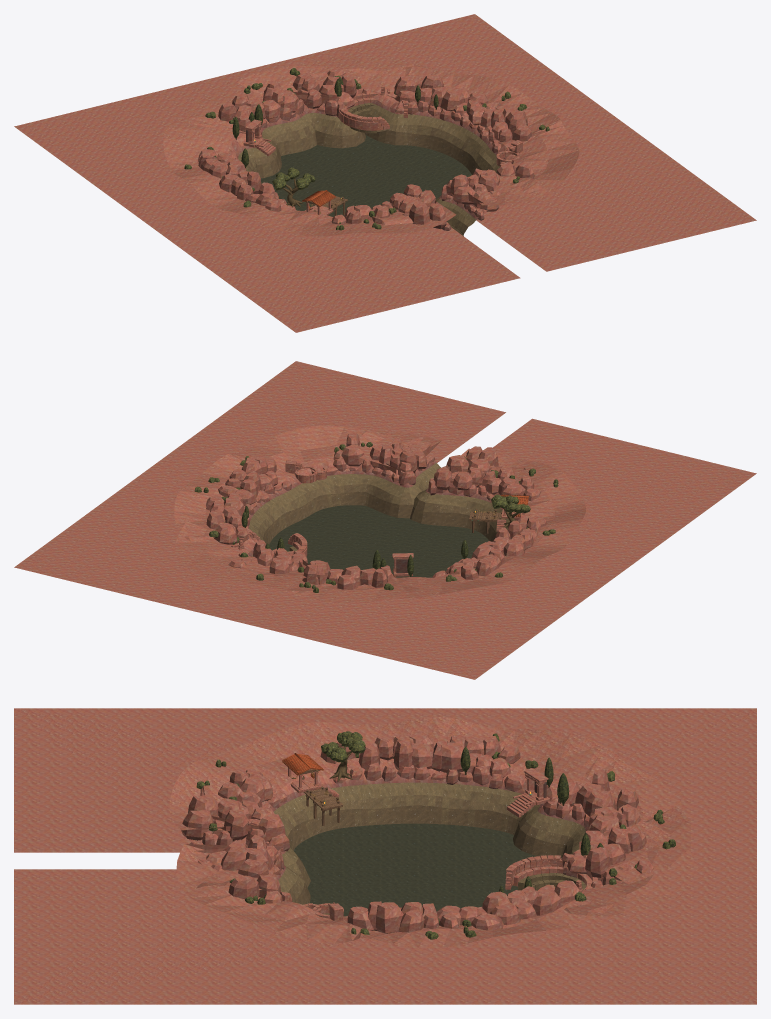
File: moon-cistern.glb
3 views of the same model, one above another, from view 1: azimuth 30°, elevation 25°; view 2: azimuth 150°, elevation 25°; view 3: azimuth 270°, elevation 25° (orthographic). The views are drawn at different scales.
Visible parts, largest first — view 1: South_Limestone, North_Limestone, West_Limestone, East_Limestone, East_Seabed, North_Seabed, West_Seabed, Landmark_Moon_Cistern_Limestone, North_Foliage, West_Foliage, South_Seabed; view 2: South_Limestone, North_Limestone, West_Limestone, East_Limestone, East_Seabed, South_Seabed, West_Seabed, North_Foliage, West_Foliage; view 3: South_Limestone, North_Limestone, East_Limestone, West_Limestone, West_Seabed, East_Seabed, South_Seabed, North_Seabed, North_Foliage, Landmark_Moon_Cistern_Limestone, West_Foliage, Landmark_Moon_Cistern_Seabed (+1 smaller).
Boxes of the visible parts, bbox=[...] form: South_Limestone: bbox=[238, 138, 756, 332]; North_Limestone: bbox=[14, 14, 501, 167]; West_Limestone: bbox=[14, 126, 316, 332]; East_Limestone: bbox=[432, 14, 756, 220]; East_Seabed: bbox=[270, 118, 499, 215]; North_Seabed: bbox=[238, 103, 436, 183]; West_Seabed: bbox=[246, 148, 460, 216]; Landmark_Moon_Cistern_Limestone: bbox=[339, 92, 408, 130]; North_Foliage: bbox=[205, 68, 438, 157]; West_Foliage: bbox=[184, 148, 315, 207]; South_Seabed: bbox=[436, 197, 476, 236]; South_Limestone: bbox=[247, 361, 756, 533]; North_Limestone: bbox=[14, 495, 509, 679]; West_Limestone: bbox=[446, 473, 756, 679]; East_Limestone: bbox=[14, 361, 317, 567]; East_Seabed: bbox=[249, 481, 479, 577]; South_Seabed: bbox=[316, 463, 509, 542]; West_Seabed: bbox=[284, 510, 507, 577]; North_Foliage: bbox=[209, 505, 457, 592]; West_Foliage: bbox=[461, 494, 555, 577]; South_Limestone: bbox=[14, 708, 372, 1004]; North_Limestone: bbox=[490, 708, 756, 1004]; East_Limestone: bbox=[15, 891, 755, 1004]; West_Limestone: bbox=[15, 708, 755, 797]; West_Seabed: bbox=[322, 782, 502, 915]; East_Seabed: bbox=[323, 824, 497, 916]; South_Seabed: bbox=[274, 794, 326, 904]; North_Seabed: bbox=[498, 789, 585, 895]; North_Foliage: bbox=[497, 752, 675, 901]; Landmark_Moon_Cistern_Limestone: bbox=[505, 855, 597, 891]; West_Foliage: bbox=[321, 731, 499, 771]; Landmark_Moon_Cistern_Seabed: bbox=[518, 873, 586, 890].
Size of the model in its own units: 84 by 10.51 by 89.
9 materials, 8 textured.
